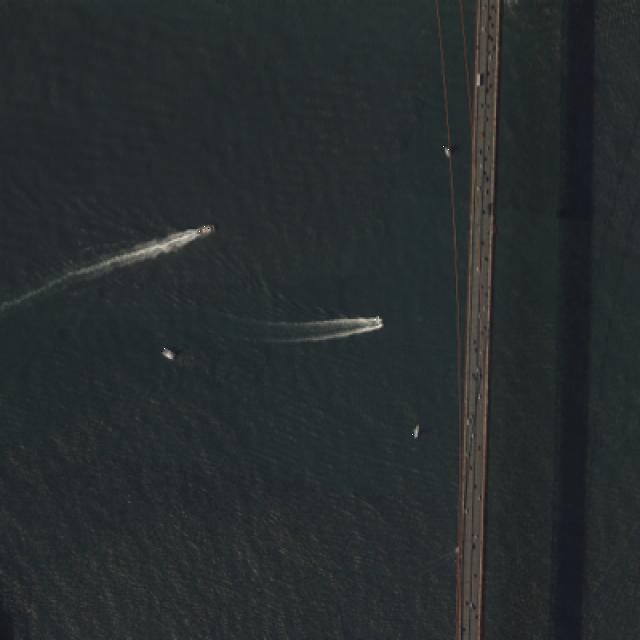boat: (160, 345, 176, 359), (198, 222, 214, 232), (410, 424, 419, 436), (443, 144, 450, 154), (374, 318, 381, 324)
